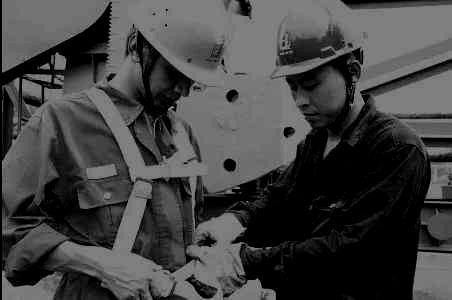helmet: (270, 1, 368, 129), (124, 1, 233, 109)
